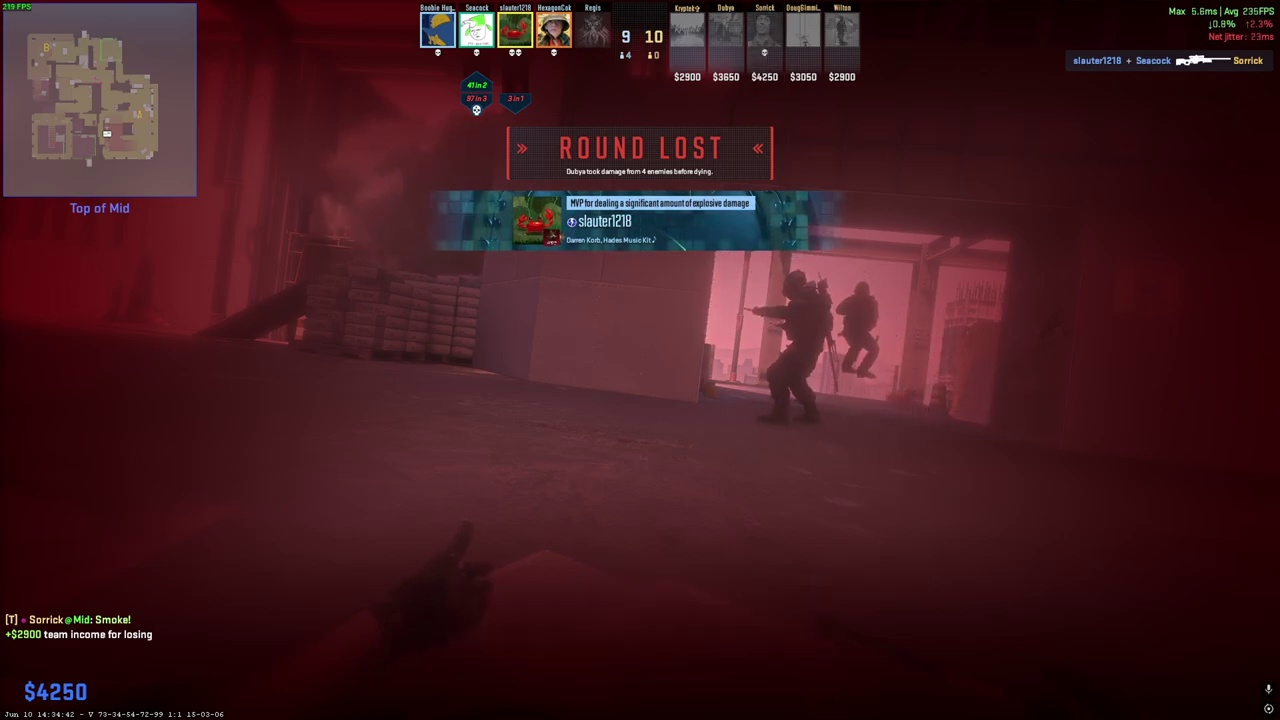CT: (760, 270, 830, 425), (839, 281, 879, 379)
